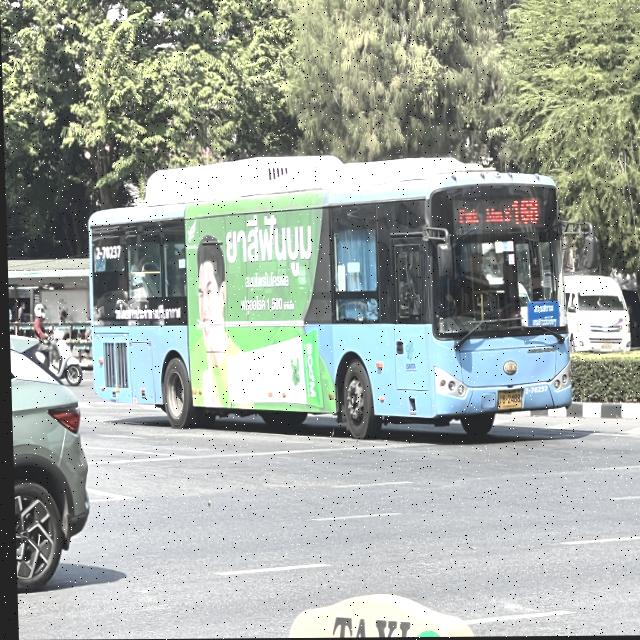BMTA-bus: (83, 155, 573, 443)
Bus-Line-Number: (509, 195, 541, 228)
Destination-Sign-Normal: (524, 300, 558, 325)
